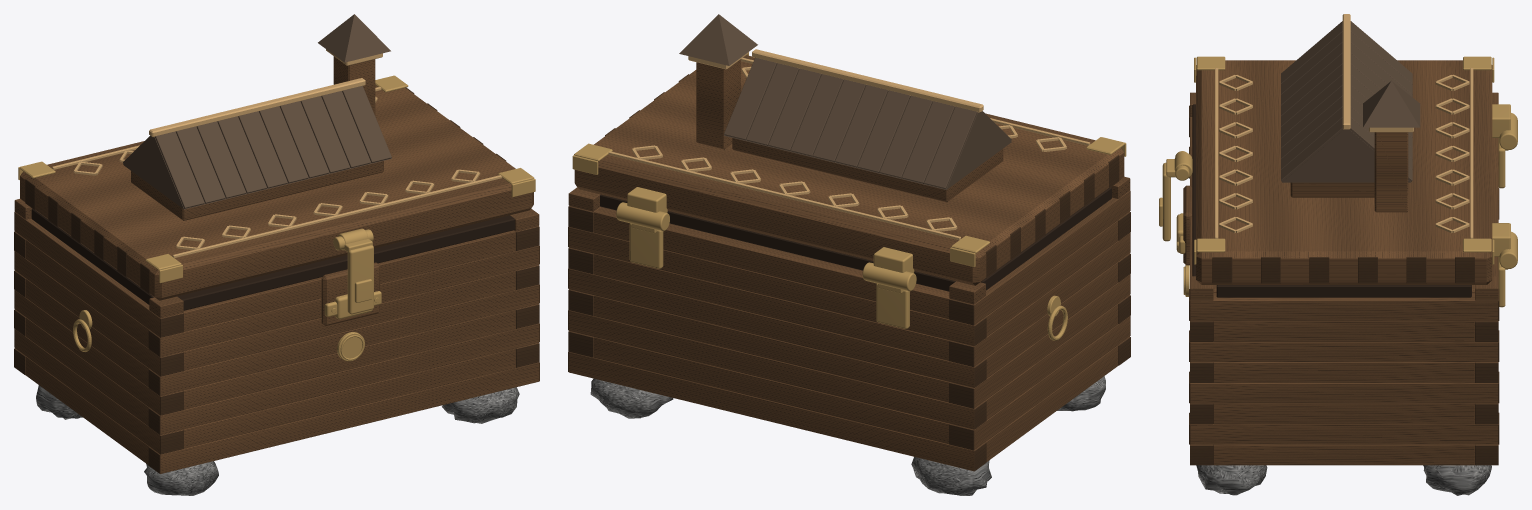
Rendered from romania.glb.
3 renders of one model, left to right at view 1: azimuth 30°, elevation 25°; view 2: azimuth 150°, elevation 25°; view 3: azimuth 270°, elevation 25°, orthographic. The views are drawn at different scales.
Visible parts, largest first — view 1: Lid / polished slab, Timber / front course 2, Timber / front course 0, Timber / front course 4, Timber / front course 1, Timber / front course 6, Timber / front course 3, Timber / front course 5, Timber / front course 7, Mineral seam / long, Timber / side course 7, Roof / timber foundation (+20 smaller); view 2: Lid / polished slab, Timber / rear course 4, Timber / rear course 2, Timber / rear course 0, Timber / rear course 7, Timber / rear course 3, Timber / rear course 1, Timber / rear course 5, Timber / rear course 6, Timber / side course 7, Roof / timber foundation, Timber / side course 1 (+23 smaller); view 3: Lid / polished slab, Timber / side course 7.001, Timber / side course 5.001, Timber / side course 1.001, Timber / side course 3.001, Timber / side course 0.001, Timber / side course 2.001, Timber / side course 4.001, Timber / side course 6.001, Mineral seam / side.001, Roof / double slope core, Spire / timber shaft (+35 smaller).
Boxes of the visible parts, x1,y1,x2,y2 form: Lid / polished slab: (20, 85, 533, 300); Timber / front course 2: (149, 323, 539, 434); Timber / front course 0: (150, 362, 539, 473); Timber / front course 4: (149, 284, 539, 396); Timber / front course 1: (183, 348, 515, 448); Timber / front course 6: (149, 245, 539, 357); Timber / front course 3: (184, 309, 515, 409); Timber / front course 5: (183, 270, 515, 370); Timber / front course 7: (183, 230, 515, 331); Mineral seam / long: (177, 215, 514, 310); Timber / side course 7: (14, 212, 183, 337); Roof / timber foundation: (131, 161, 383, 220); Lid / polished slab: (574, 55, 1124, 285); Timber / rear course 4: (568, 268, 985, 387); Timber / rear course 2: (568, 310, 985, 429); Timber / rear course 0: (568, 352, 985, 471); Timber / rear course 7: (594, 207, 949, 319); Timber / rear course 3: (594, 295, 949, 402); Timber / rear course 1: (594, 337, 949, 444); Timber / rear course 5: (594, 253, 949, 360); Timber / rear course 6: (568, 227, 985, 346); Timber / side course 7: (949, 191, 1130, 325); Roof / timber foundation: (732, 138, 1003, 202); Timber / side course 1: (949, 316, 1130, 450); Lid / polished slab: (1196, 60, 1492, 284); Timber / side course 7.001: (1190, 293, 1498, 321); Timber / side course 5.001: (1190, 341, 1498, 362); Timber / side course 1.001: (1190, 424, 1498, 444); Timber / side course 3.001: (1190, 383, 1498, 403); Timber / side course 0.001: (1213, 444, 1474, 465); Timber / side course 2.001: (1213, 403, 1474, 424); Timber / side course 4.001: (1213, 362, 1474, 382); Timber / side course 6.001: (1213, 321, 1474, 341); Mineral seam / side.001: (1216, 285, 1471, 297); Roof / double slope core: (1282, 129, 1411, 182); Spire / timber shaft: (1374, 132, 1408, 212).
Size of the model in its own units: 3.79 by 3.41 by 2.88.
Materials: 7 (3 with a texture image).
